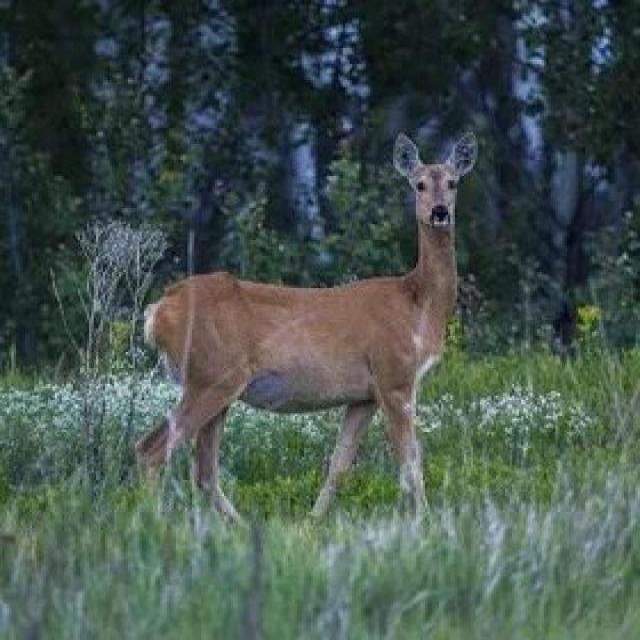deer: (107, 112, 506, 564)
